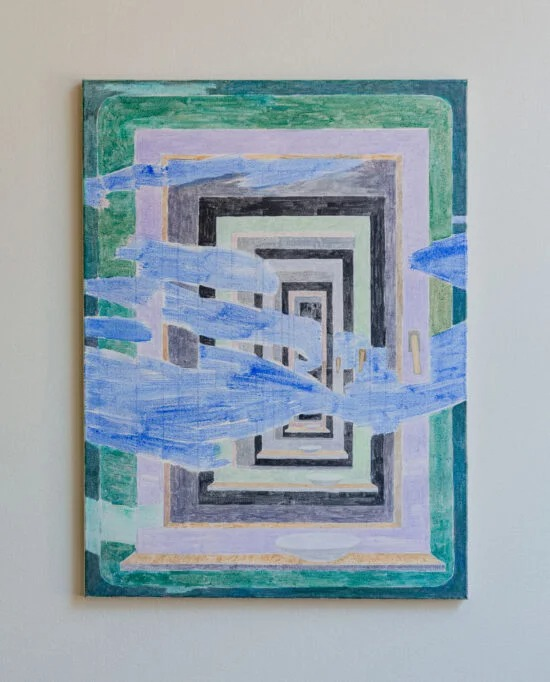painting: (83, 80, 468, 600)
